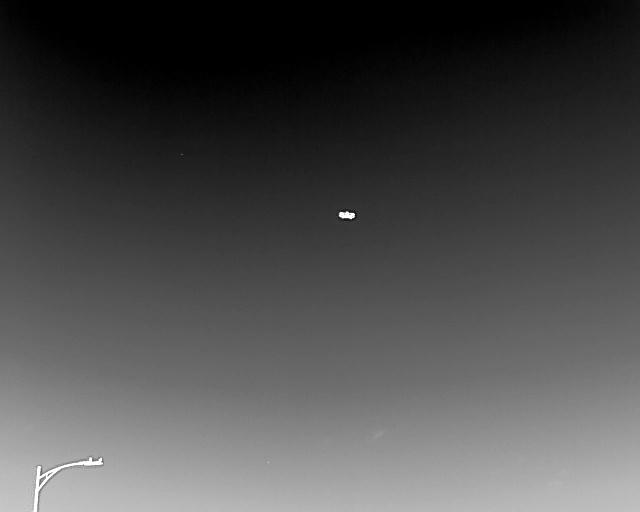fpv-drone: (337, 210, 356, 221)
